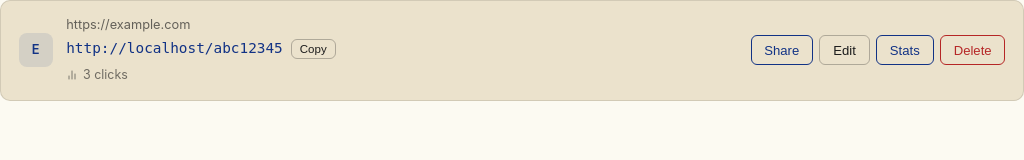
URLCard › shows Copied! when the clipboard copy succeeds
The image size is (1024, 160).
Click the button with class "btn-copy". click: click(313, 49)
box: left=291, top=39, right=336, bottom=59
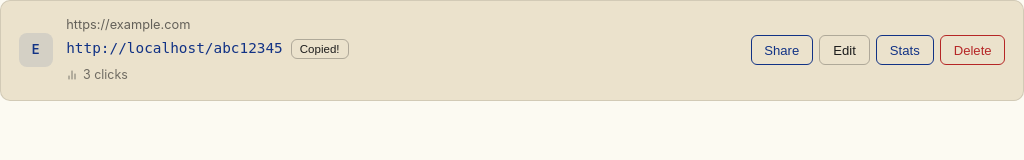
Result: the button with class "btn-copy" reads "Copied!" at left=291, top=39, right=348, bottom=59
